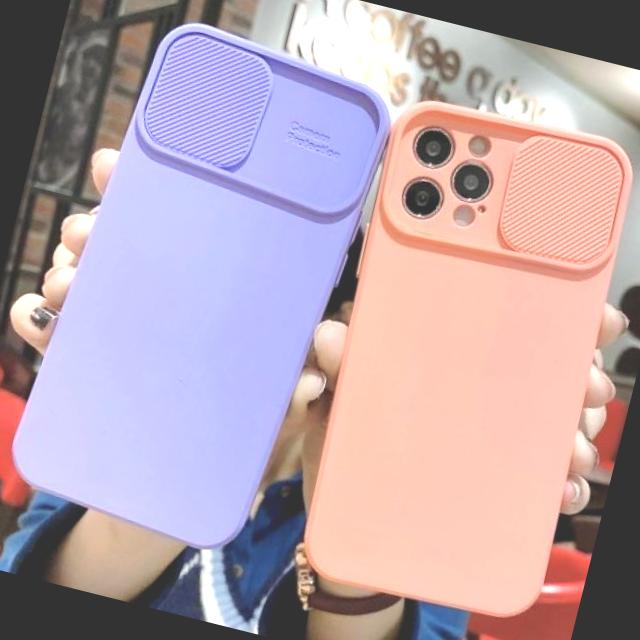lens_back: (406, 118, 462, 176), (394, 170, 448, 225), (444, 154, 498, 208)
phone: (4, 1, 401, 572), (283, 83, 640, 633)
